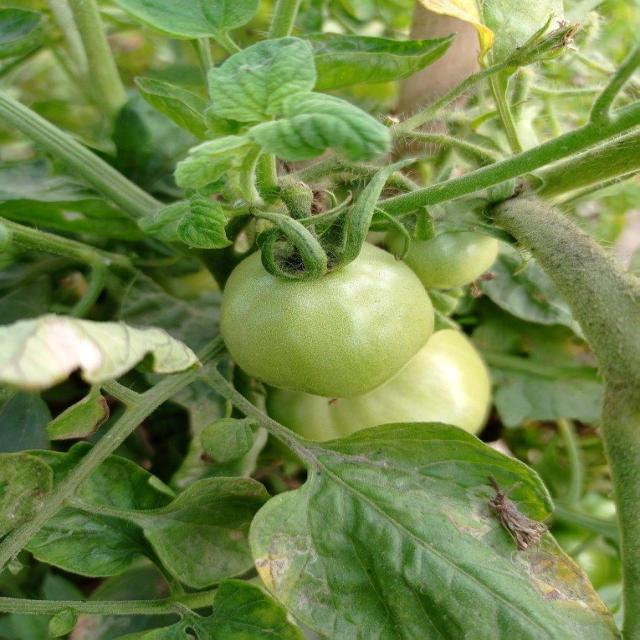Unripe: (220, 223, 430, 398)
